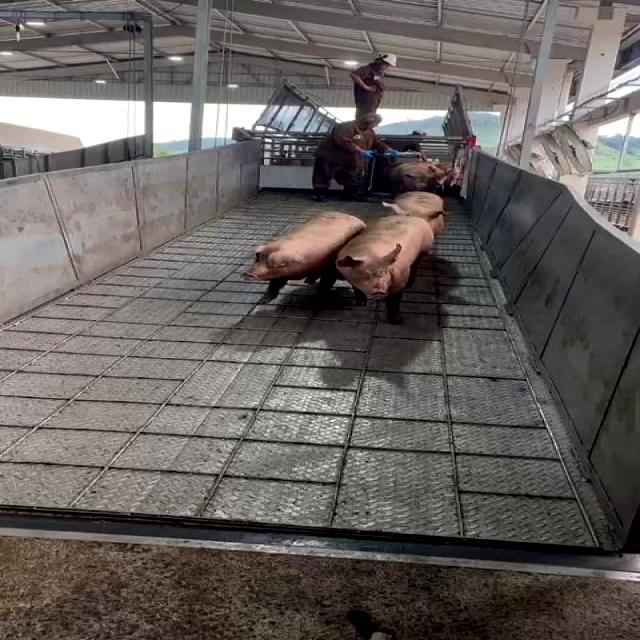pig: (244, 212, 364, 304), (336, 214, 434, 322), (386, 192, 445, 235)
